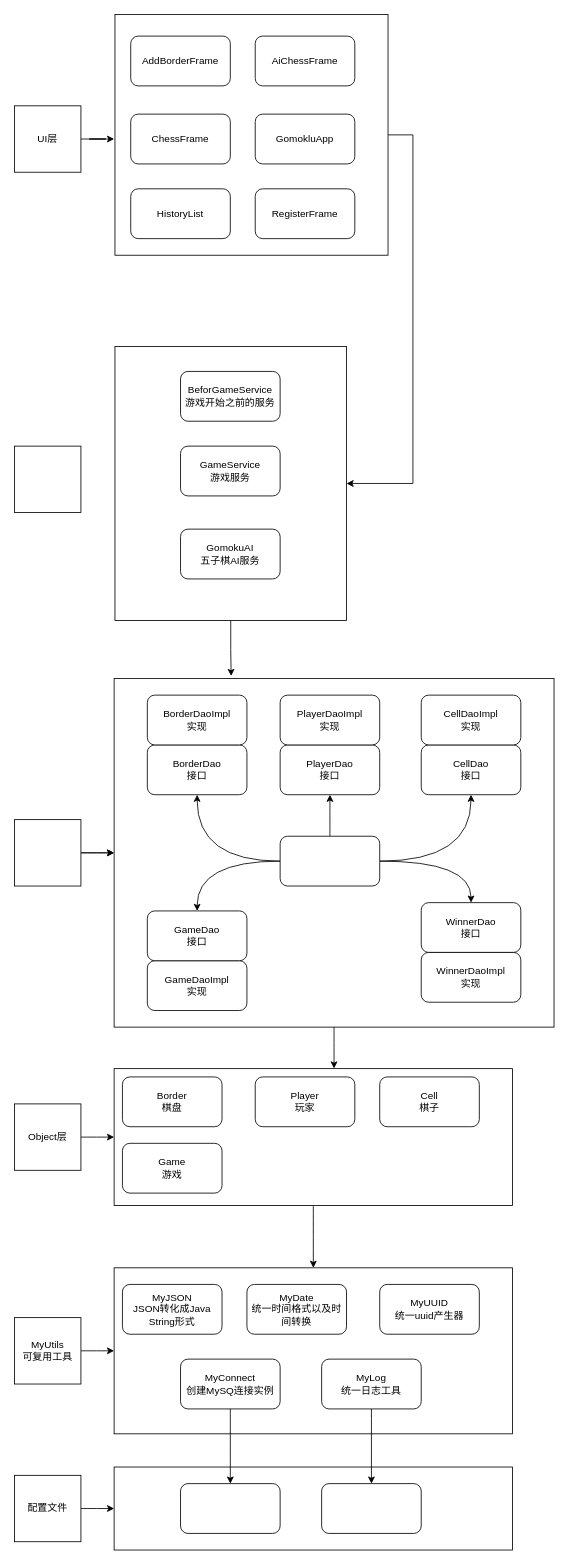
Some shapes in this 569 by 1565 pixel diagram are drawn without their labels. Here are the shapes that lost their labels. From the top down, the centre of each, then its label:
At (x=47, y=479): "Service层".
At (x=47, y=852): "Dao层".
At (x=329, y=860): "DaoFactory 工厂模式".
At (x=230, y=1508): "DbConfig.json".
At (x=371, y=1508): "logback.xml".
